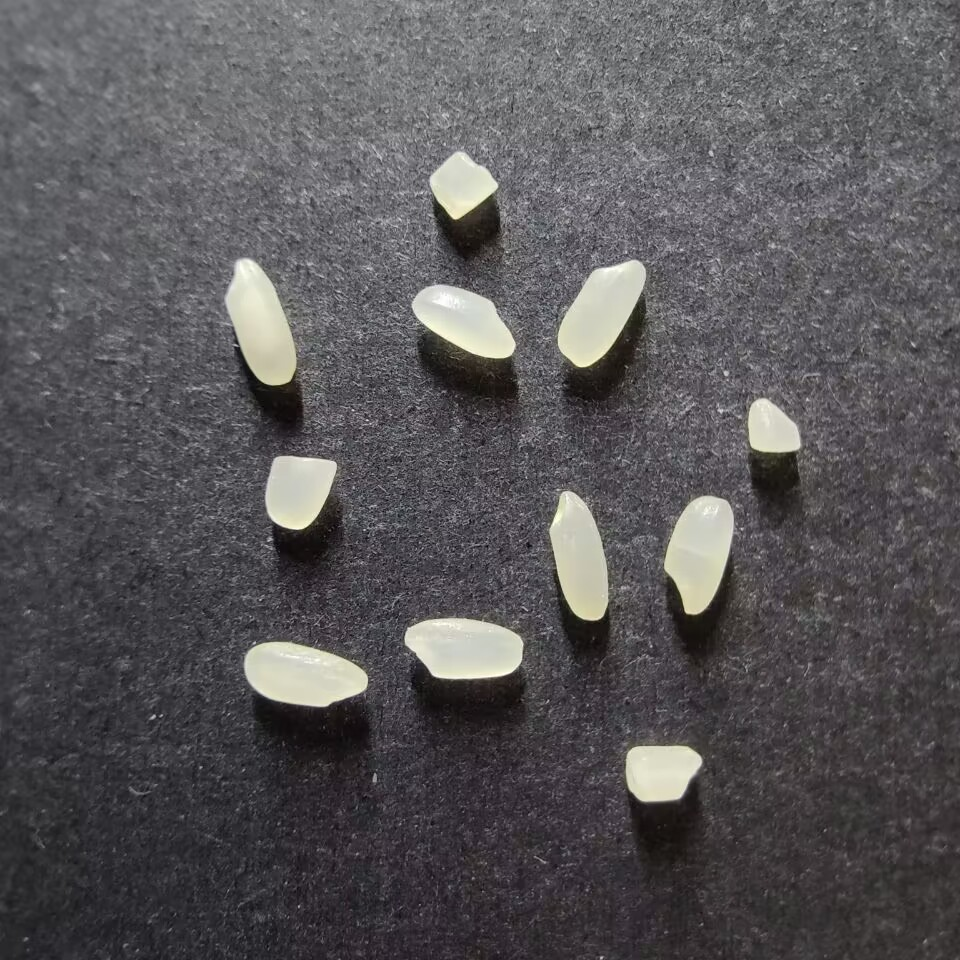broken: (264, 455, 338, 531), (428, 150, 499, 221), (625, 744, 702, 803), (746, 398, 802, 453)
rice: (556, 259, 647, 368), (224, 256, 298, 386), (662, 495, 735, 616), (243, 641, 369, 707), (411, 283, 517, 359), (549, 489, 610, 621), (403, 617, 524, 680)
